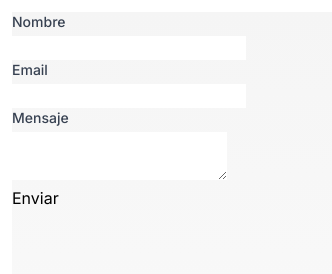
Scenario: Componente Form › muestra error cuando se envía con campos vacíos
Enviar formulario vacío
What coordinates should you click on to do the following:
click the button "Enviar"
I would click on:
 (35, 198)
Its box is [12,186,59,210].
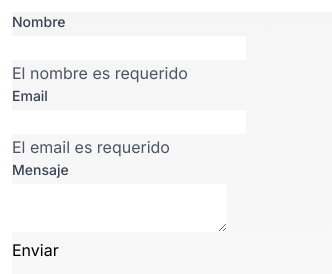
Expected: the text "El nombre es requerido" is shown, [12,63,188,83]
Expected: the text "El email es requerido" is shown, [12,137,170,157]
